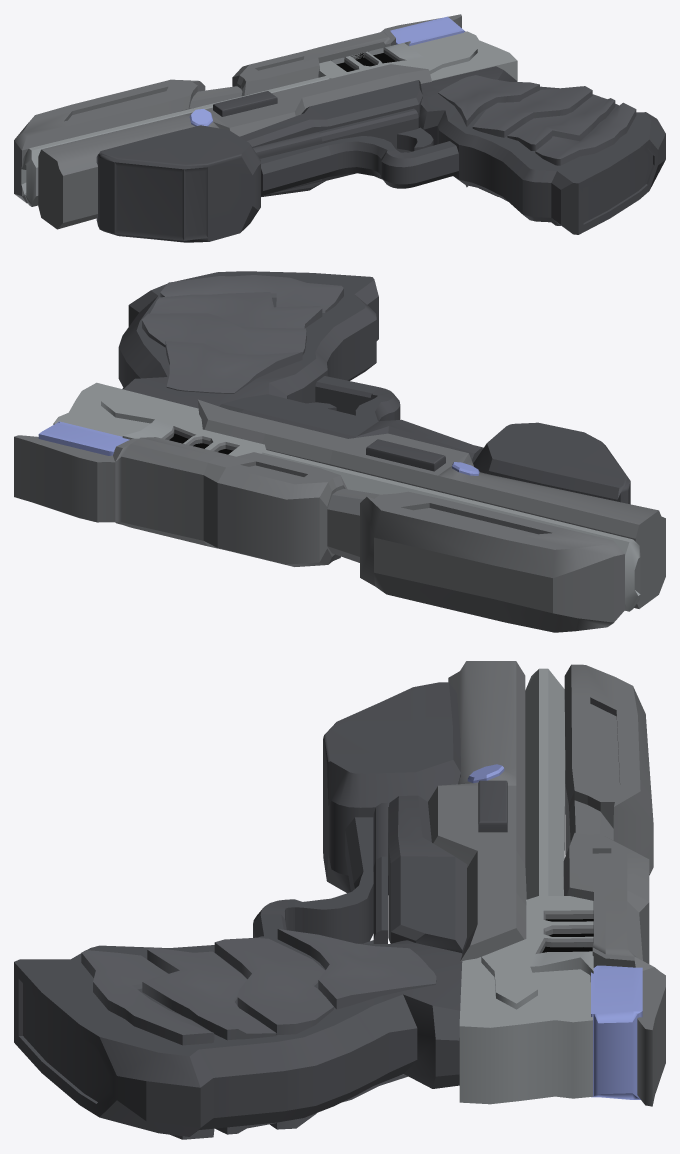
Rendered from T3_GUN.fbx.
The picture shows the model from 3 angles, top to bottom: view 1: azimuth 30°, elevation 25°; view 2: azimuth 150°, elevation 25°; view 3: azimuth 270°, elevation 25°; orthographic projection. The views are drawn at different scales.
Parts seen in each view (by area): view 1: GUN_T3; view 2: GUN_T3; view 3: GUN_T3.
Part boxes in pixels (x1,y1,x2,y2): GUN_T3: (14,14,665,242); GUN_T3: (14,271,665,632); GUN_T3: (14,661,665,1139).
Size of the model in its own units: 1.13 by 0.7808 by 0.1691.
